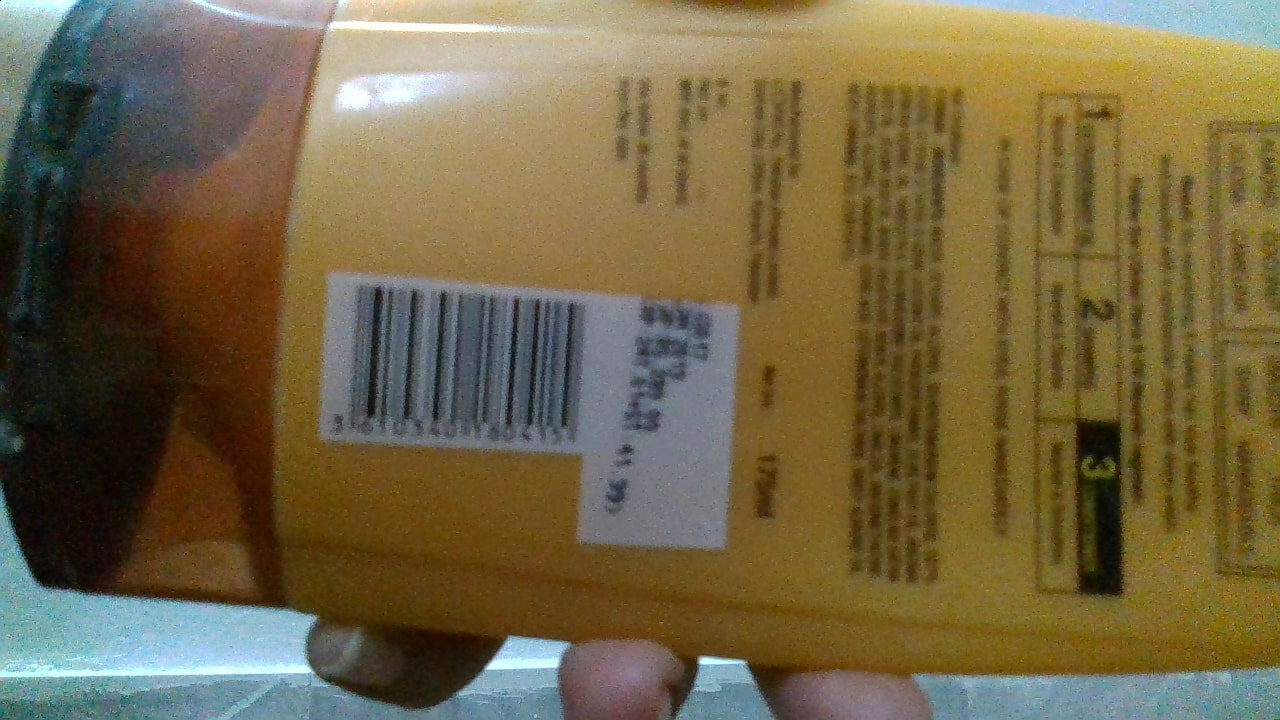Barcode: (347, 278, 585, 449)
